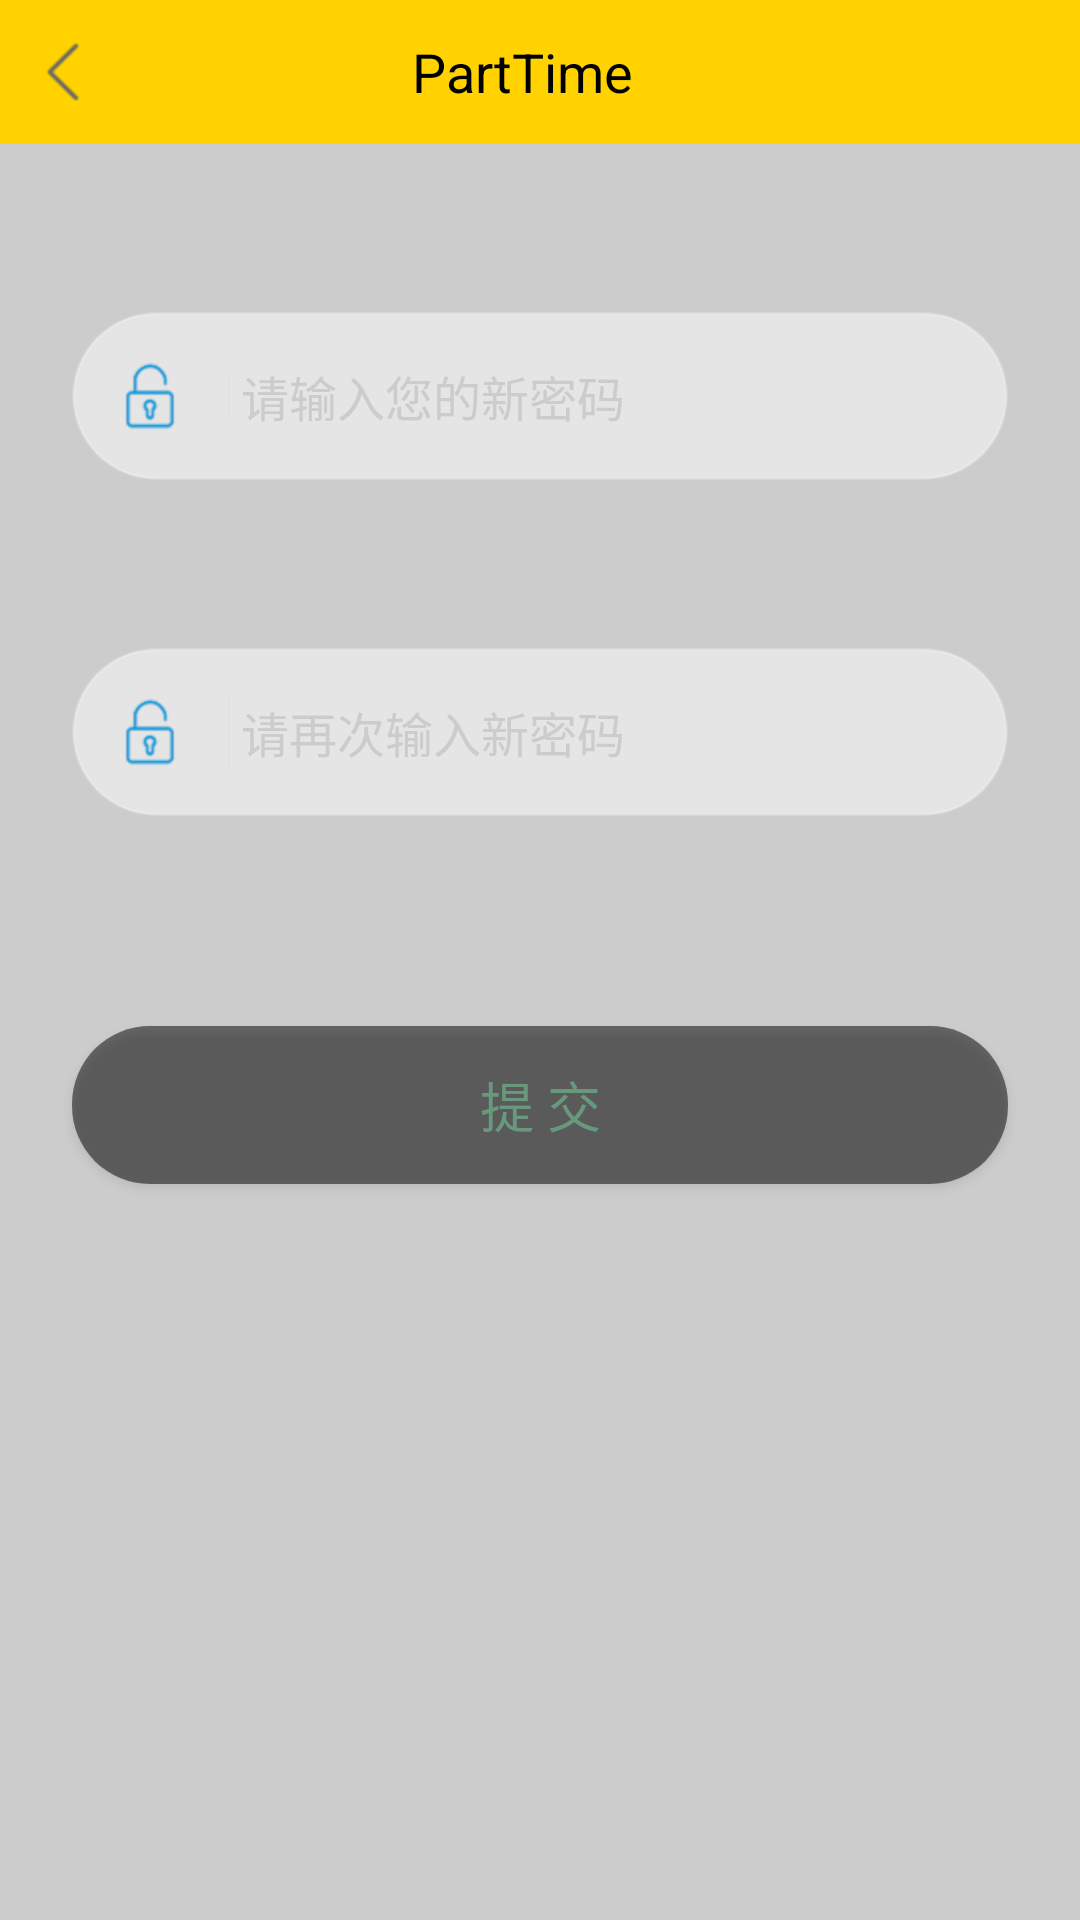

Point at icon controls on the screen. Image size 1080×1920, points as point (x, y).
back: point (63, 72)
login password: point (150, 396), point (150, 732)
